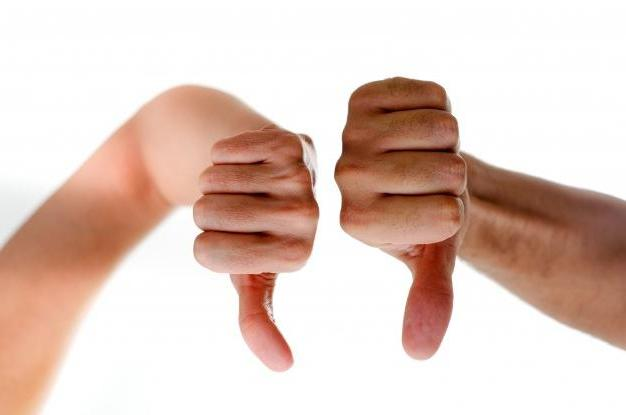thumbsdown: (334, 76, 469, 361), (193, 130, 320, 374)
